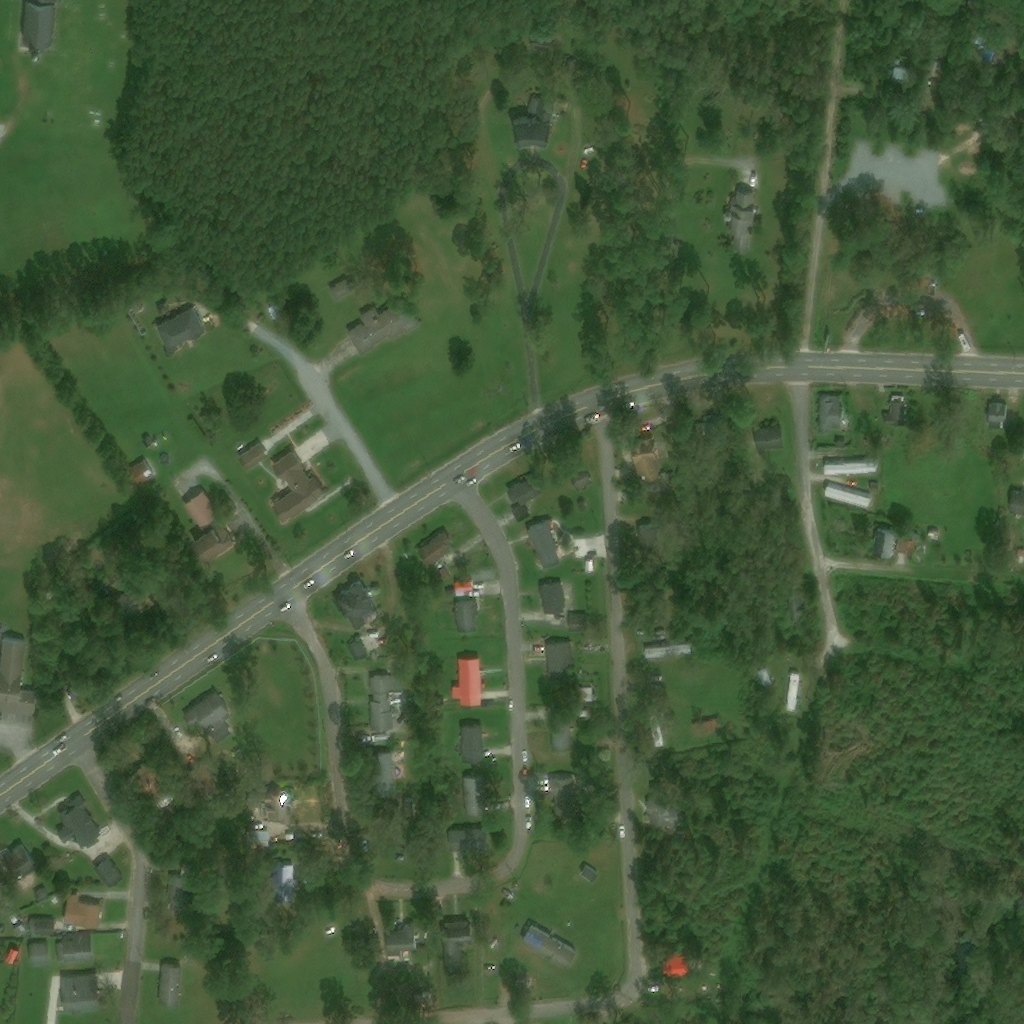minor_damage: (520, 925, 578, 970)
no_damage: (346, 298, 419, 356), (270, 451, 324, 523), (1, 639, 35, 717), (180, 694, 231, 745), (506, 98, 558, 145), (156, 306, 207, 353), (55, 796, 99, 848), (965, 23, 1020, 64), (723, 191, 756, 252), (334, 580, 376, 627), (186, 523, 234, 562), (437, 921, 474, 969), (525, 521, 561, 568), (372, 752, 407, 799), (20, 0, 52, 51), (246, 787, 290, 823), (60, 974, 97, 1012), (62, 894, 102, 929), (629, 436, 660, 481), (108, 580, 147, 615), (1, 846, 39, 881), (369, 678, 394, 730), (453, 659, 481, 705), (417, 532, 453, 567), (823, 484, 874, 508), (182, 492, 215, 529), (506, 475, 545, 505), (647, 706, 673, 748), (551, 715, 580, 752), (157, 966, 183, 1007), (92, 857, 124, 890), (384, 927, 420, 956), (818, 397, 845, 434), (447, 829, 490, 852), (57, 935, 91, 963), (271, 865, 295, 903), (703, 413, 729, 448), (823, 462, 879, 478), (546, 644, 571, 678), (238, 444, 269, 471), (462, 725, 484, 763), (647, 800, 677, 827), (644, 643, 694, 659), (872, 530, 898, 560), (661, 957, 702, 976), (882, 397, 907, 426), (639, 523, 663, 553), (540, 584, 564, 614), (752, 427, 783, 450), (910, 272, 938, 297), (127, 462, 154, 487), (550, 777, 574, 805), (456, 602, 477, 633), (569, 467, 594, 493), (463, 777, 480, 815), (986, 403, 1009, 430), (329, 278, 354, 302), (786, 674, 801, 711), (693, 720, 721, 739), (529, 30, 554, 51), (348, 641, 370, 663), (61, 678, 85, 698), (243, 831, 268, 850), (28, 944, 50, 965), (29, 921, 56, 936), (512, 504, 532, 524), (897, 540, 920, 556), (1009, 491, 1024, 514), (582, 867, 601, 885), (568, 616, 587, 632), (756, 669, 772, 688), (575, 690, 595, 704), (33, 889, 50, 905), (128, 298, 144, 315), (4, 948, 19, 965), (456, 581, 475, 592), (13, 925, 27, 937), (928, 531, 942, 542), (142, 438, 154, 450), (439, 571, 450, 583), (490, 941, 501, 952), (566, 61, 576, 73), (870, 485, 882, 494), (586, 560, 595, 572), (835, 441, 845, 449), (1, 922, 7, 933), (1019, 551, 1024, 564), (446, 592, 455, 598)
